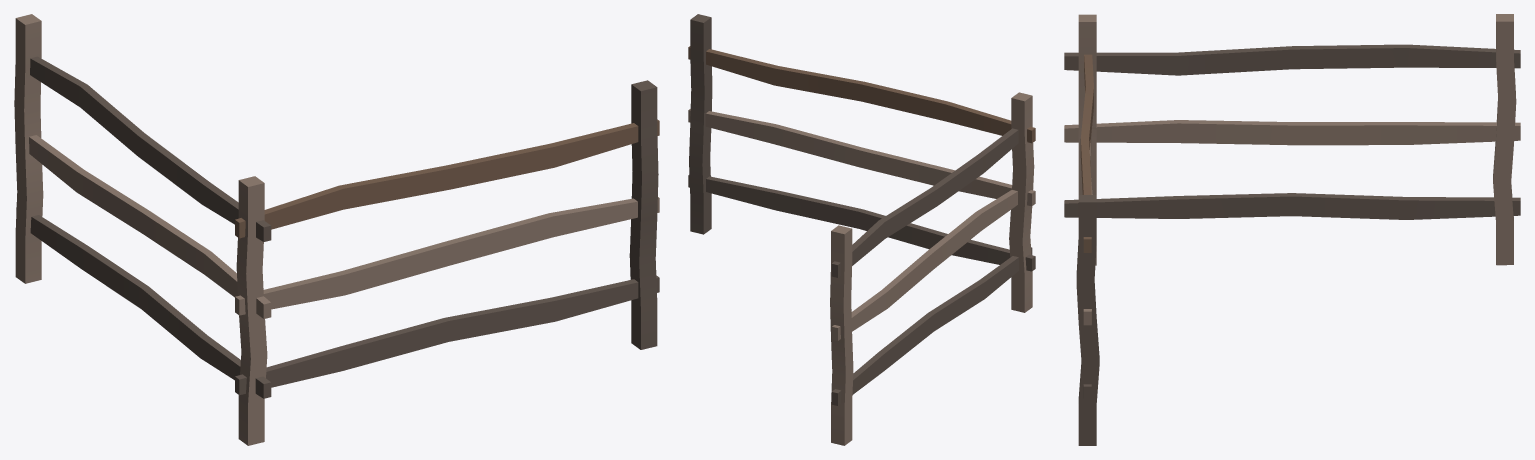
Rendered from fence_L_section.fbx.
3 views of the same model, side by side, from view 1: azimuth 30°, elevation 25°; view 2: azimuth 150°, elevation 25°; view 3: azimuth 270°, elevation 25° (orthographic). The views are drawn at different scales.
Parts seen in each view (by area): view 1: polySurface1; view 2: polySurface1; view 3: polySurface1.
Boxes of the visible parts, box(x1,y1,x2,y2) form: polySurface1: box(14, 14, 659, 445); polySurface1: box(688, 14, 1035, 445); polySurface1: box(1064, 14, 1520, 445).
Bounding box in the file's own units: 25.48 × 15 × 25.48.
